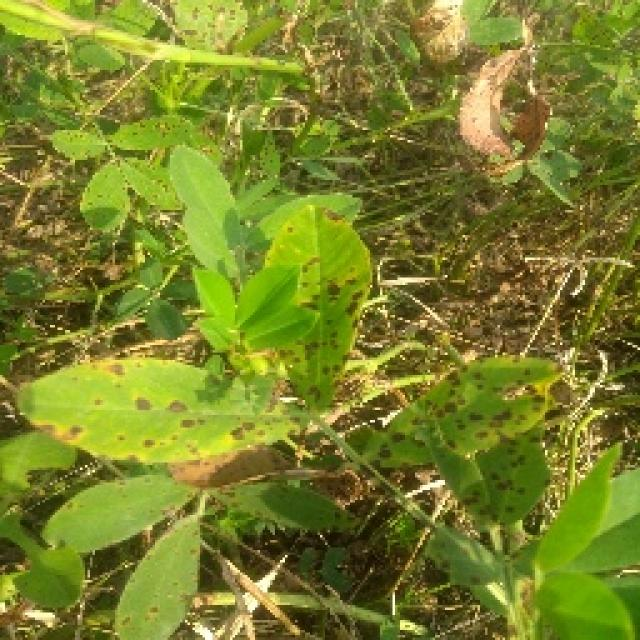Yellowish: (17, 339, 303, 486), (372, 328, 558, 516), (250, 185, 391, 421), (51, 484, 218, 640), (23, 90, 207, 230), (446, 32, 578, 184), (133, 0, 281, 72)
